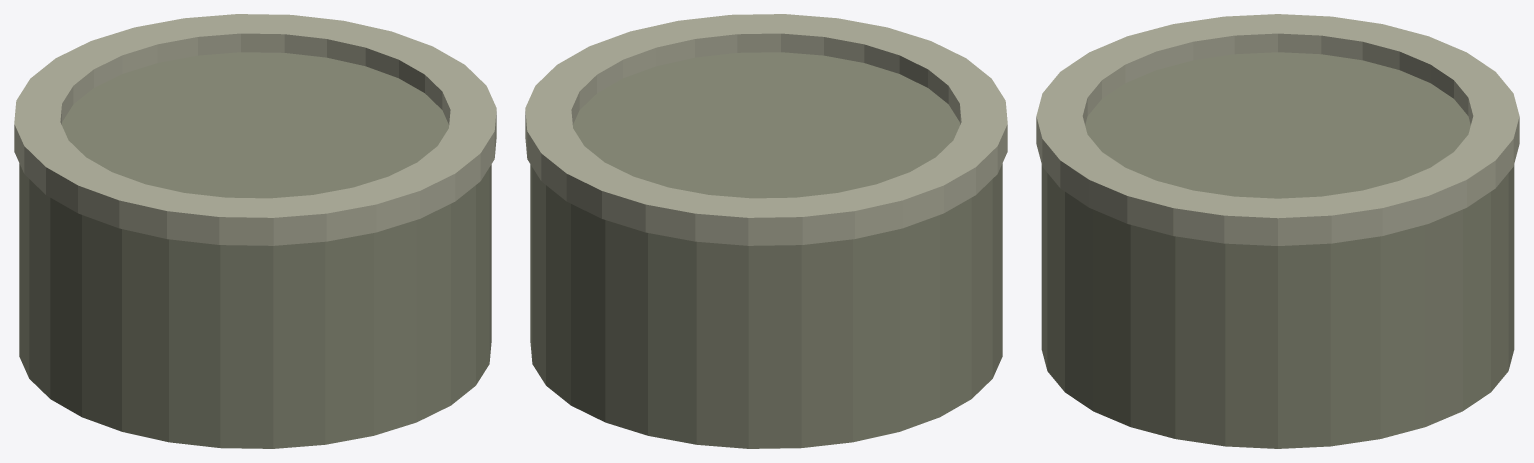
Rendered from vge_mech_crate_c.obj.
3 renders of one model, left to right at view 1: azimuth 30°, elevation 25°; view 2: azimuth 150°, elevation 25°; view 3: azimuth 270°, elevation 25°, orthographic.
Parts seen in each view (by area): view 1: vge_mech_crate_c_0, vge_mech_crate_c_1; view 2: vge_mech_crate_c_0, vge_mech_crate_c_1; view 3: vge_mech_crate_c_0, vge_mech_crate_c_1.
Part boxes in pixels (box(x1,y1,x2,y2)): vge_mech_crate_c_0: box(19, 52, 491, 448); vge_mech_crate_c_1: box(14, 14, 496, 245); vge_mech_crate_c_0: box(530, 52, 1002, 448); vge_mech_crate_c_1: box(525, 14, 1007, 245); vge_mech_crate_c_0: box(1041, 52, 1514, 448); vge_mech_crate_c_1: box(1036, 14, 1519, 245).
Bounding box in the file's own units: 0.94 × 0.5 × 0.94.
